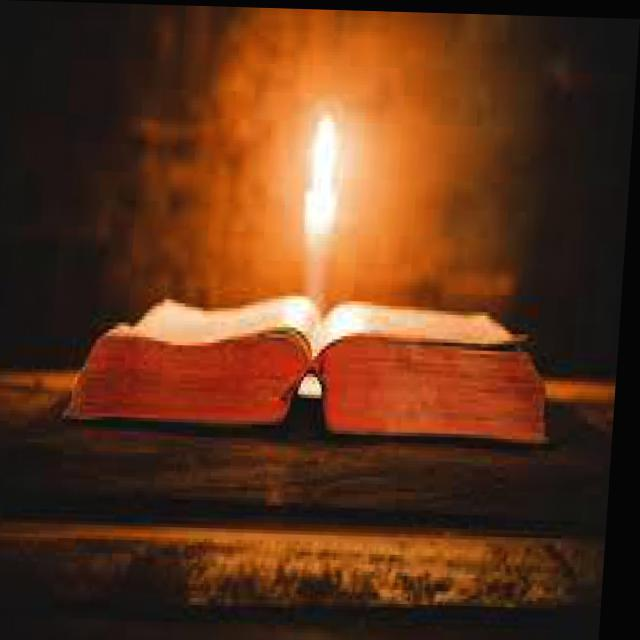Fire: (301, 109, 356, 215)
